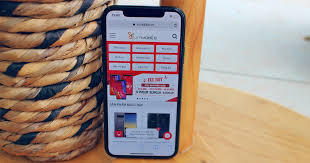iphone: (100, 2, 184, 159)
iphone10: (101, 2, 185, 159)
